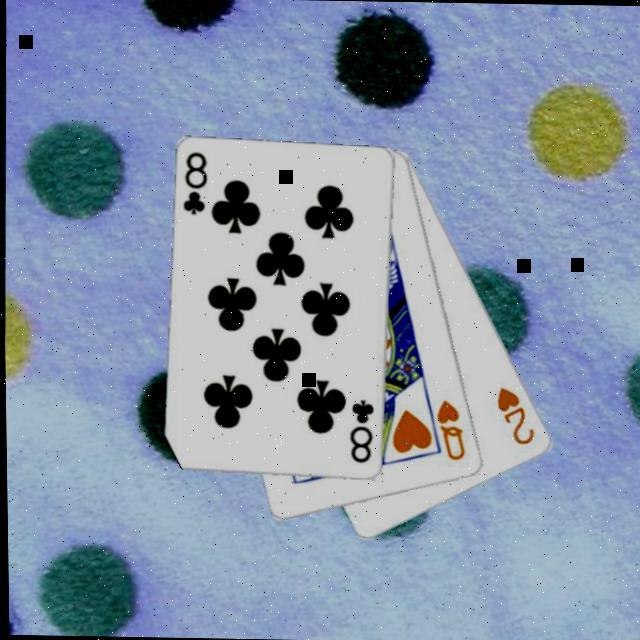2H: (494, 385, 540, 450)
8C: (179, 150, 213, 220), (346, 398, 379, 468)
QH: (432, 397, 470, 466)
